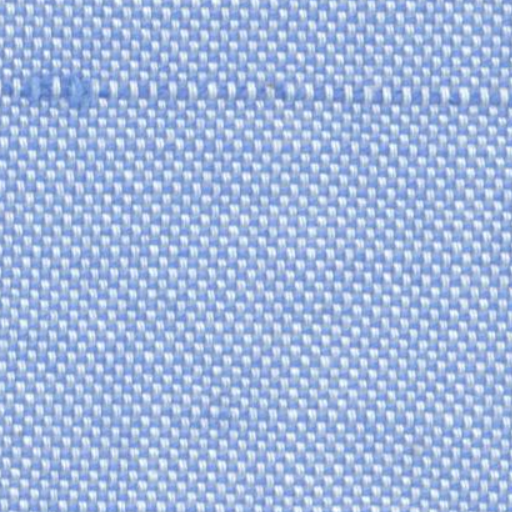DaiSha: (12, 59, 484, 118)
